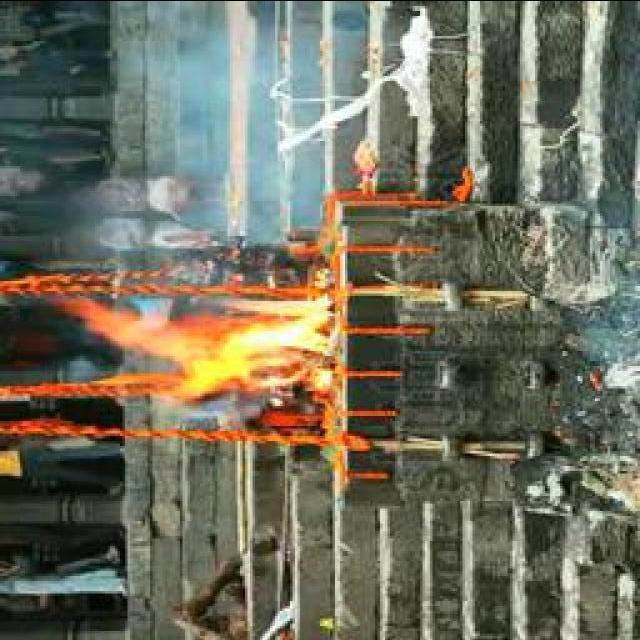Fire: (103, 283, 334, 406)
